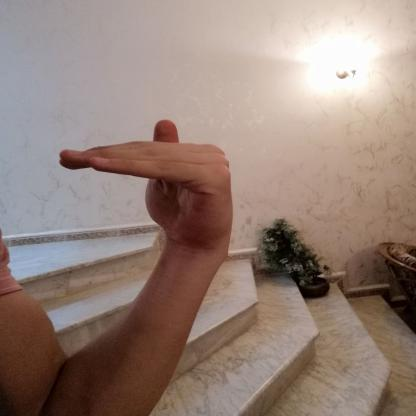KHAA: (41, 110, 253, 258)
